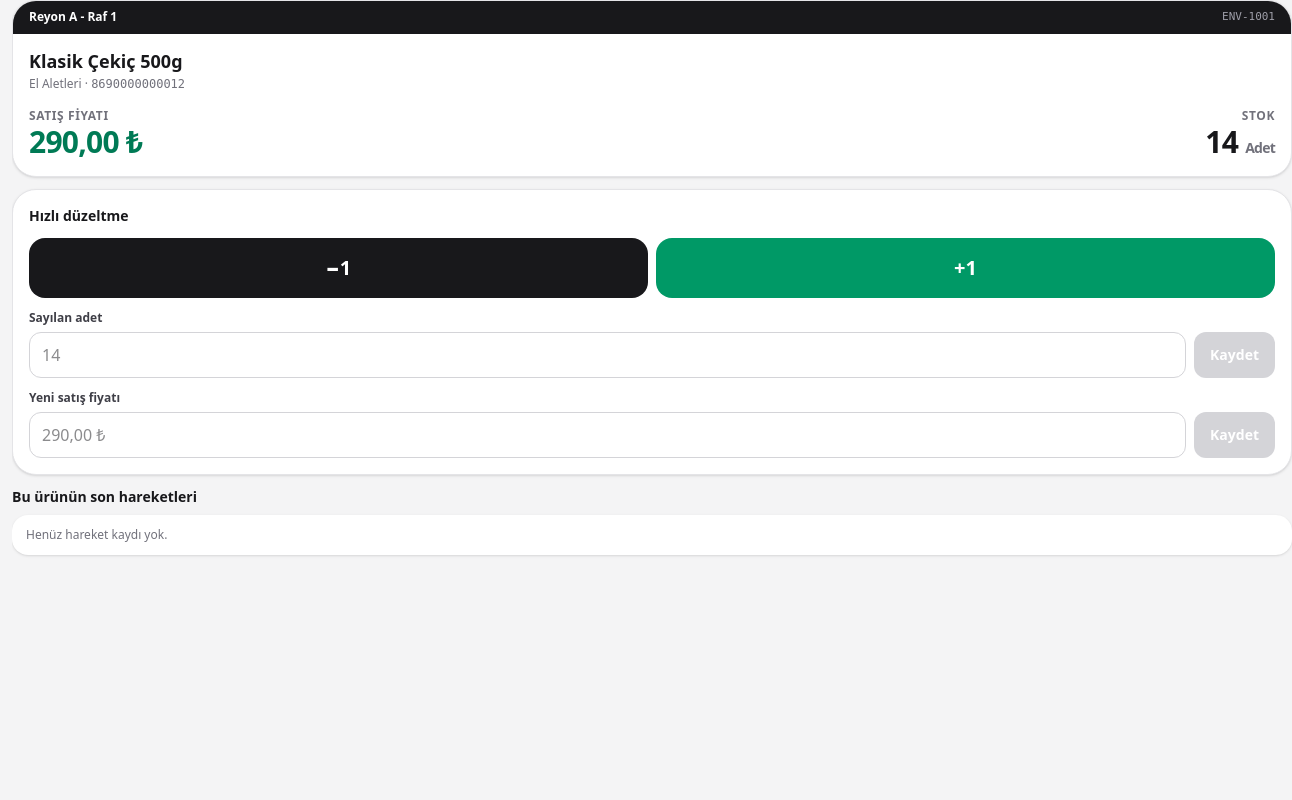
Test: hızlı stok düzeltme › hata durumunda stok eski değerine döner ve mesaj gösterilir
Click the button "−1".
click(338, 268)  # box [29, 238, 648, 298]
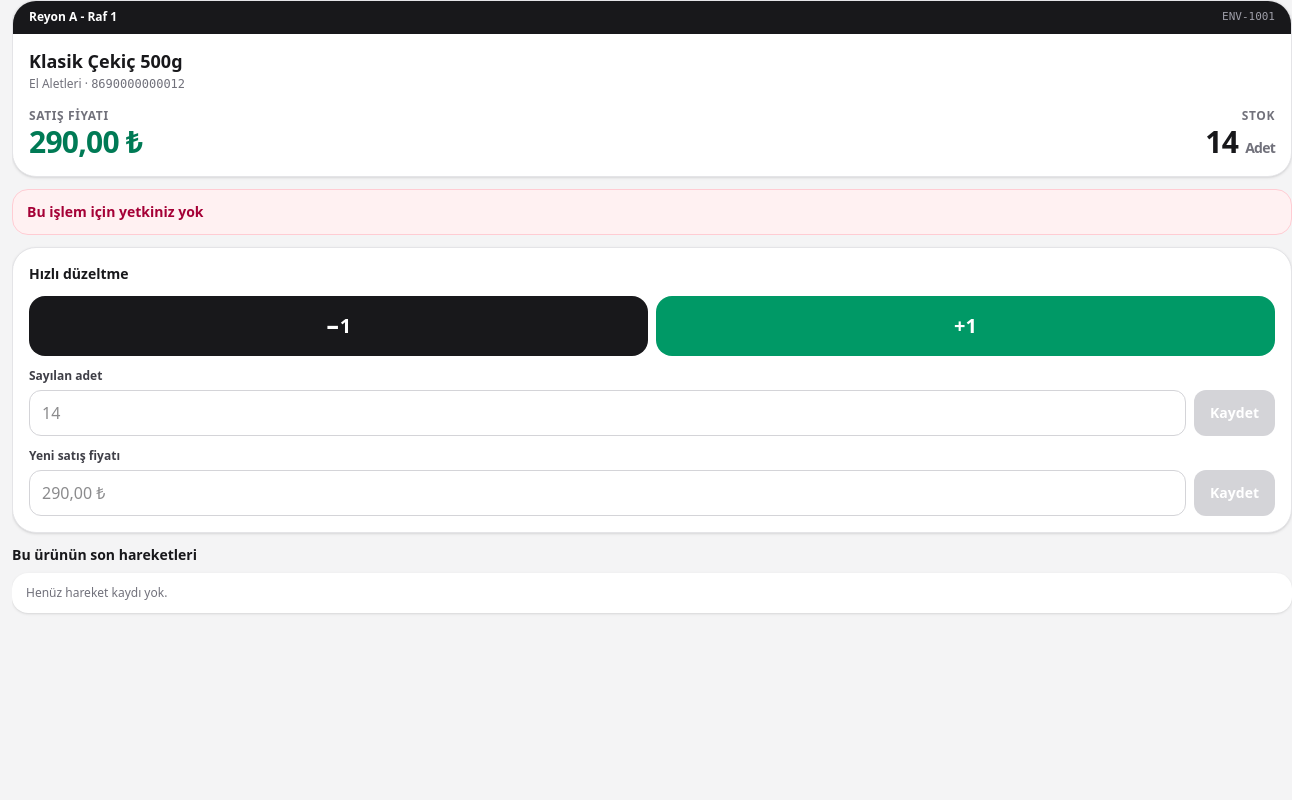
Expected: the element showing "14 Adet" is shown, [1205, 124, 1275, 160]
Expected: the message reads "Bu işlem için yetkiniz yok", [27, 202, 204, 221]
